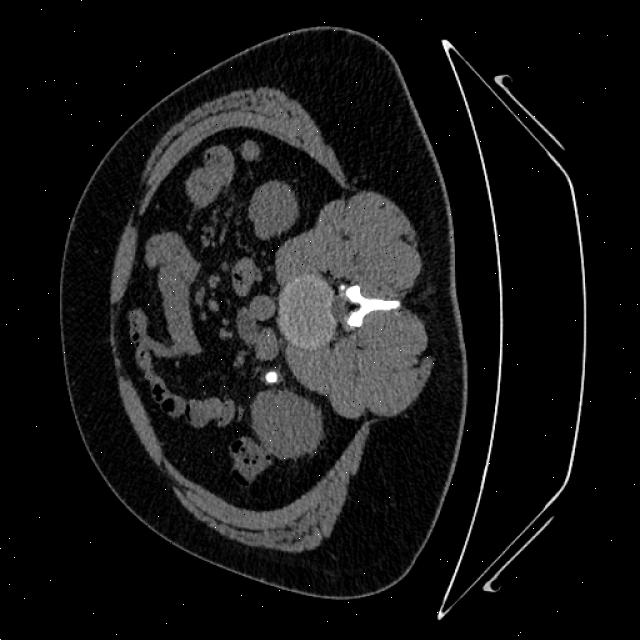kidneystone: (265, 370, 278, 382)
